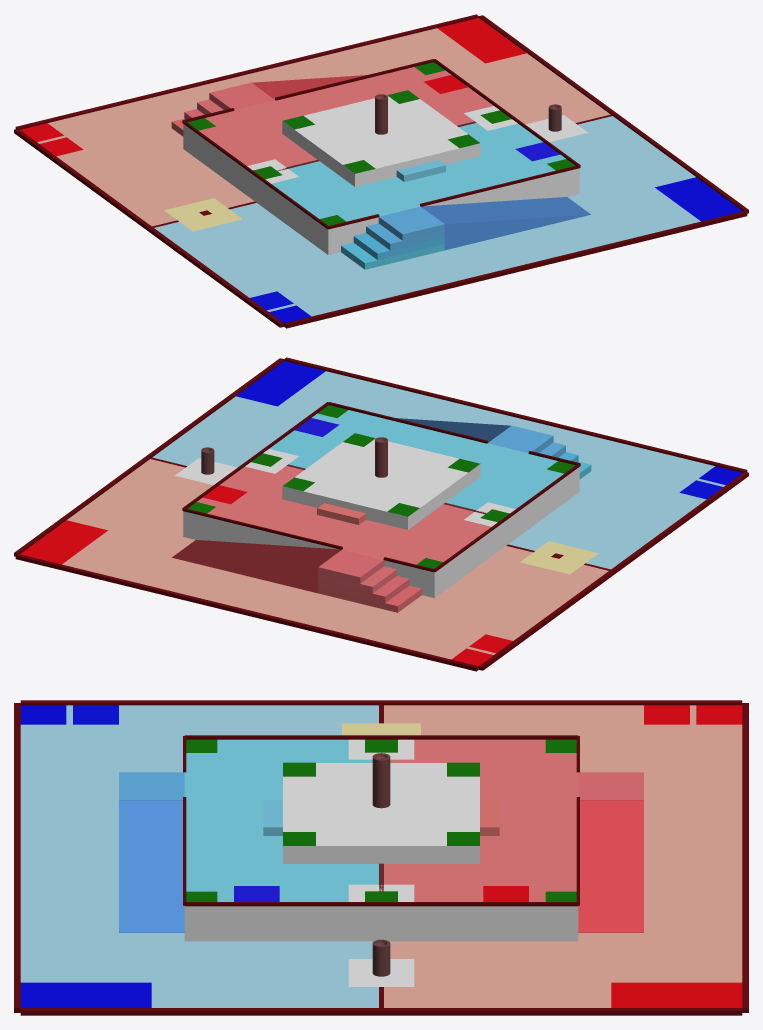
3 renders of one model, top to bottom at view 1: azimuth 30°, elevation 25°; view 2: azimuth 150°, elevation 25°; view 3: azimuth 270°, elevation 25°, orthographic. The views are drawn at different scales.
Parts seen in each view (by area): view 1: Ground_Blue, Ground_Red, Plane.001, Cube.017, Plane, Cube, Cube.006, Boundary_Wall_Right, Boundary_Wall_Front, Boundary_Wall_Left, Storage_Red, Storage_Blue (+15 smaller); view 2: Ground_Red, Ground_Blue, Plane, Cube.017, Plane.001, Cube, Cube.001, Boundary_Wall_Left, Boundary_Wall_Front, Boundary_Wall_Right, Storage_Blue, Storage_Red (+15 smaller); view 3: Ground_Red, Ground_Blue, Plane, Plane.001, Cube.017, Cube, Cube.001, Cube.006, Boundary_Wall_Back, Boundary_Wall_Front, Storage_Blue, Storage_Red (+20 smaller).
Part boxes in pixels (<box>): Ground_Blue: <box>154,116,700,316</box>; Ground_Red: <box>37,28,610,226</box>; Plane.001: <box>271,123,565,221</box>; Cube.017: <box>282,95,480,186</box>; Plane: <box>199,67,493,167</box>; Cube: <box>183,124,579,254</box>; Cube.006: <box>421,197,590,250</box>; Boundary_Wall_Right: <box>284,211,747,328</box>; Boundary_Wall_Front: <box>14,128,283,327</box>; Boundary_Wall_Left: <box>15,14,478,129</box>; Storage_Red: <box>437,18,526,63</box>; Storage_Blue: <box>655,177,742,221</box>; Ground_Red: <box>62,459,608,659</box>; Ground_Blue: <box>152,371,725,569</box>; Plane: <box>197,466,491,564</box>; Cube.017: <box>282,438,480,529</box>; Plane.001: <box>269,410,563,510</box>; Cube: <box>183,467,579,597</box>; Cube.001: <box>172,540,341,593</box>; Boundary_Wall_Left: <box>15,554,478,671</box>; Boundary_Wall_Front: <box>479,471,748,670</box>; Boundary_Wall_Right: <box>284,357,747,472</box>; Storage_Blue: <box>236,361,325,406</box>; Storage_Red: <box>20,520,107,564</box>; Ground_Red: <box>384,705,742,1007</box>; Ground_Blue: <box>20,705,378,1007</box>; Plane: <box>384,739,578,901</box>; Plane.001: <box>184,739,378,901</box>; Cube.017: <box>283,763,479,863</box>; Cube: <box>184,906,578,941</box>; Cube.001: <box>578,800,643,932</box>; Cube.006: <box>119,800,184,932</box>; Boundary_Wall_Back: <box>20,1008,742,1015</box>; Boundary_Wall_Front: <box>20,700,742,705</box>; Storage_Blue: <box>20,982,151,1007</box>; Storage_Red: <box>611,982,742,1007</box>.
Size of the model in its own units: 11.2 by 11.2 by 1.74.
